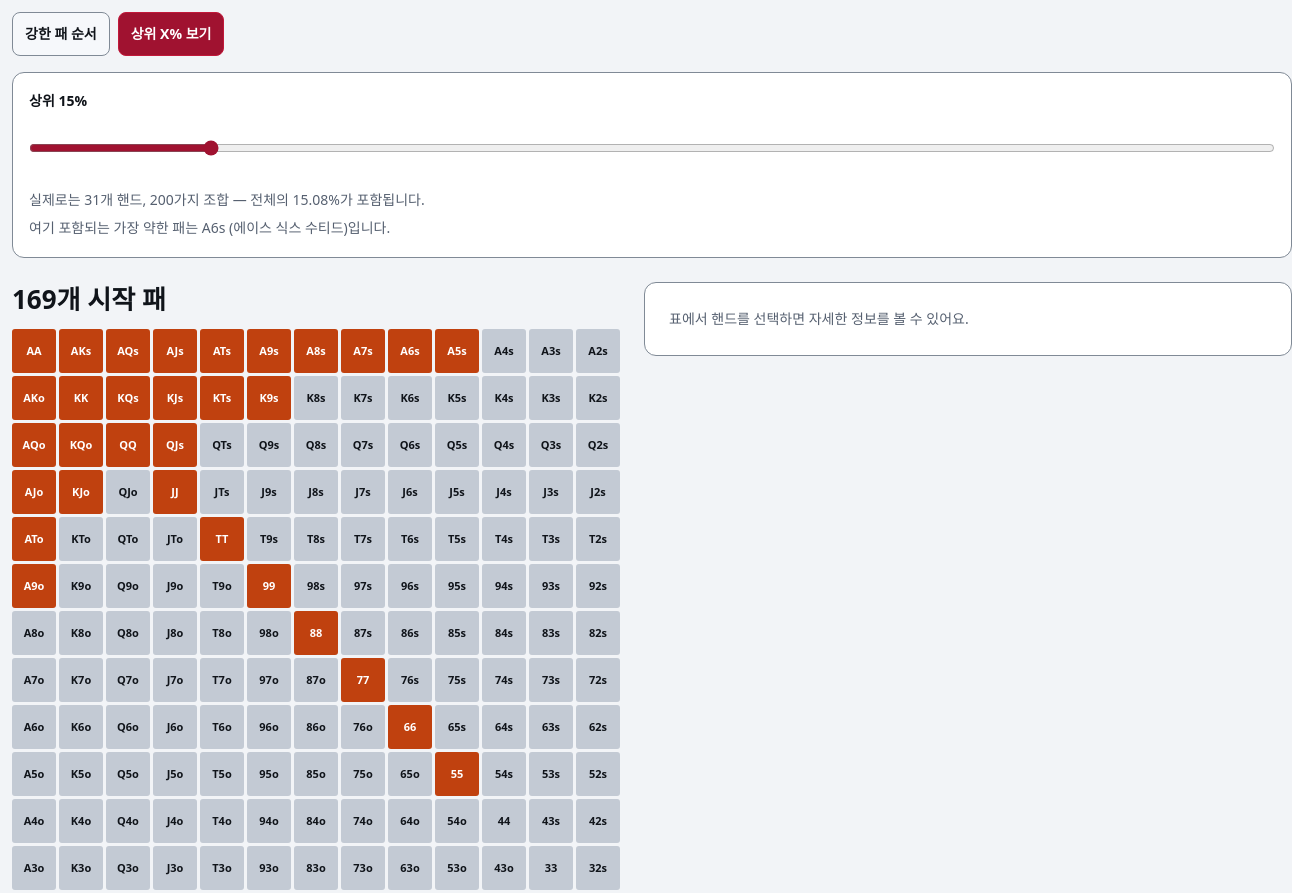
StartingHandExplorer › clicking a hand cell shows its rank, top-share and equity in the panel
Expected: the slider holds "15", [29,126,1275,170]
What coordinates should you click on to do the following:
click the button "AA"
I would click on:
 (34, 351)
Its box is [12,329,56,373].
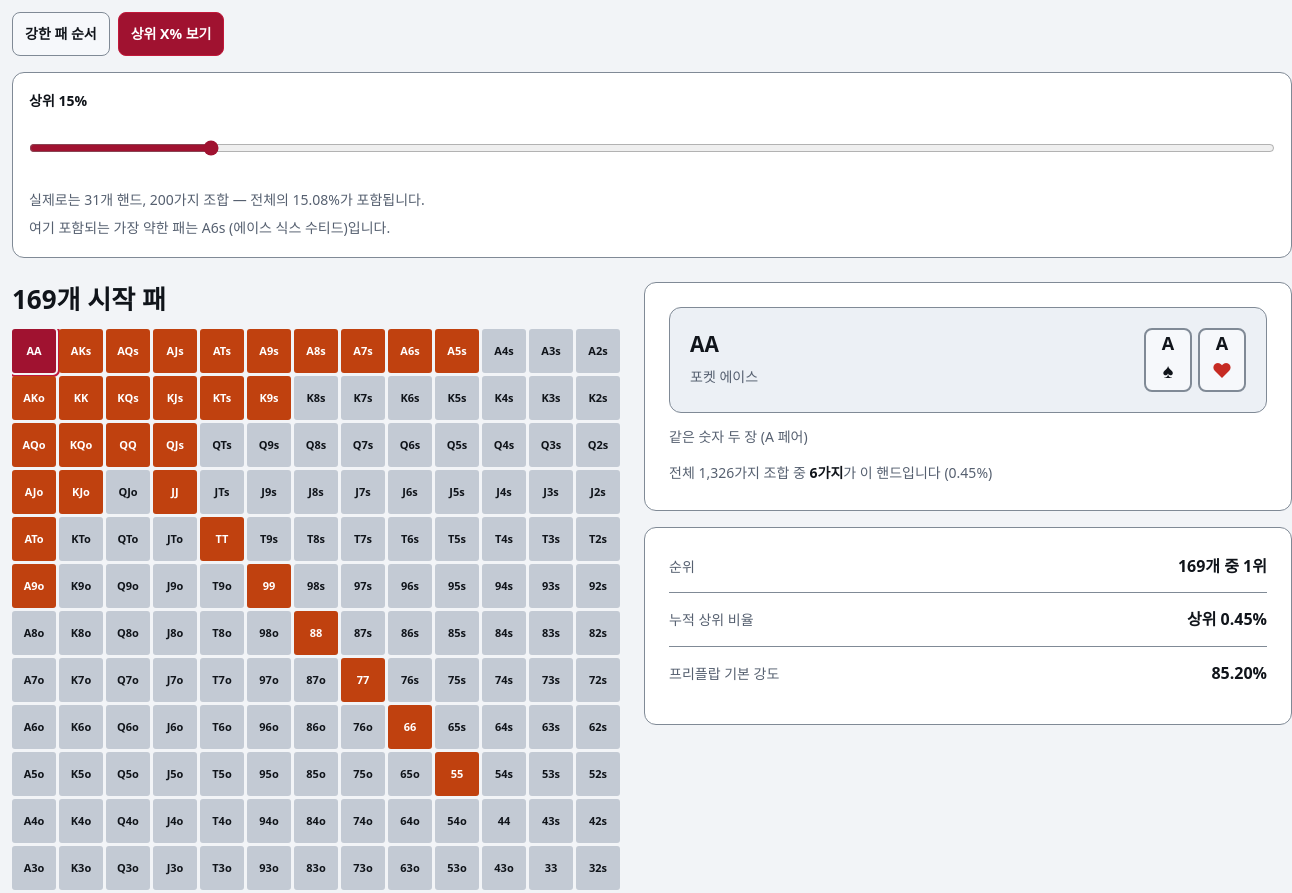
Expected: the text "169개 중 1위" is shown, [1178,552,1267,580]
Expected: the text "85.20%" is shown, [1211,659,1267,688]
